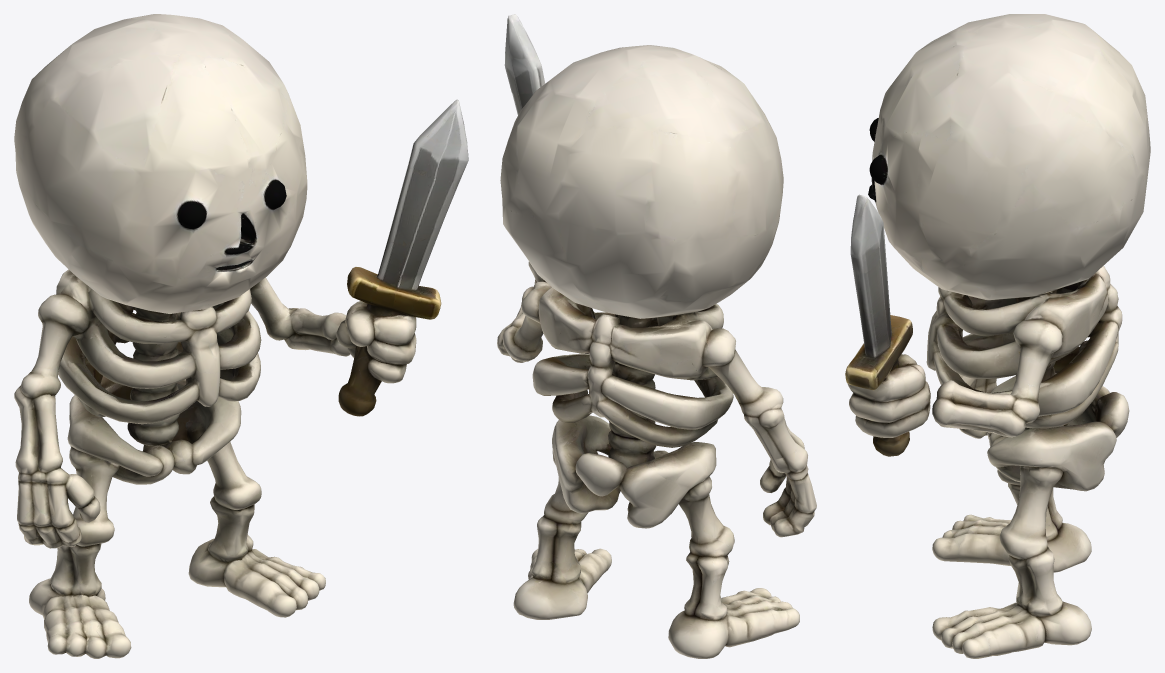
Rendered from Esqueleto.glb.
3 views of the same model, side by side, from view 1: azimuth 30°, elevation 25°; view 2: azimuth 150°, elevation 25°; view 3: azimuth 270°, elevation 25° (orthographic). The views are drawn at different scales.
Size of the model in its own units: 1.32 by 1.9 by 0.9191.
Materials: 1 (1 with a texture image).
